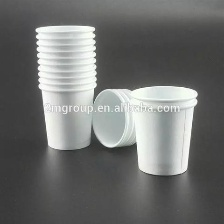paper_cup: (30, 20, 100, 152), (125, 80, 201, 180), (86, 84, 162, 149)
